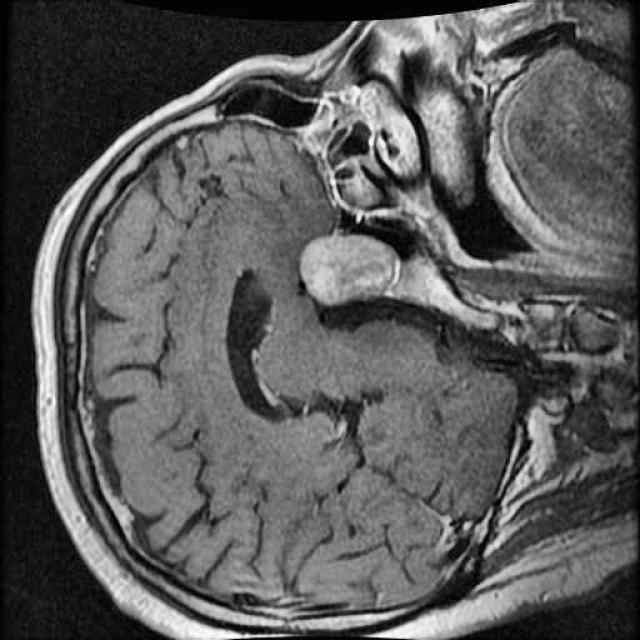Tumor: (289, 214, 411, 320)
